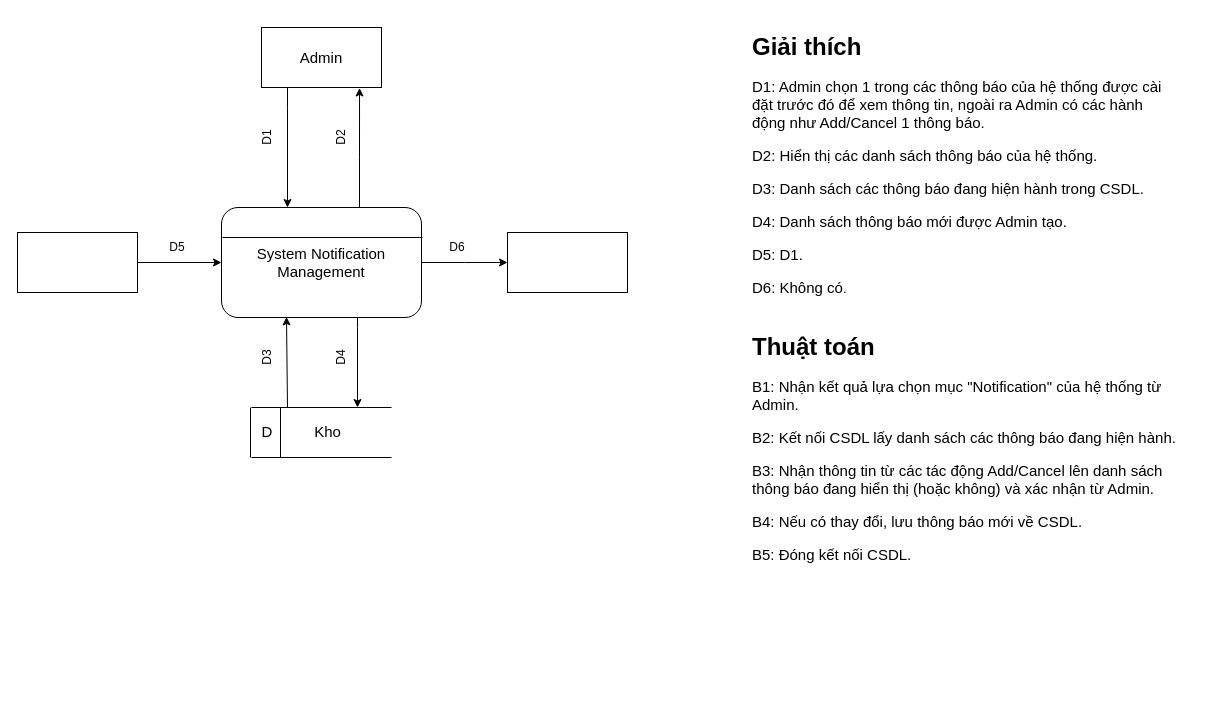
This 1205x704 diagram has some shape labels left out. The shapes that lost their labels are listed below. From the top down, each one's centre as x and y in pixels, then its label:
pixel 77 262: Thiết bị nhập
pixel 567 262: Thiết bị xuất
